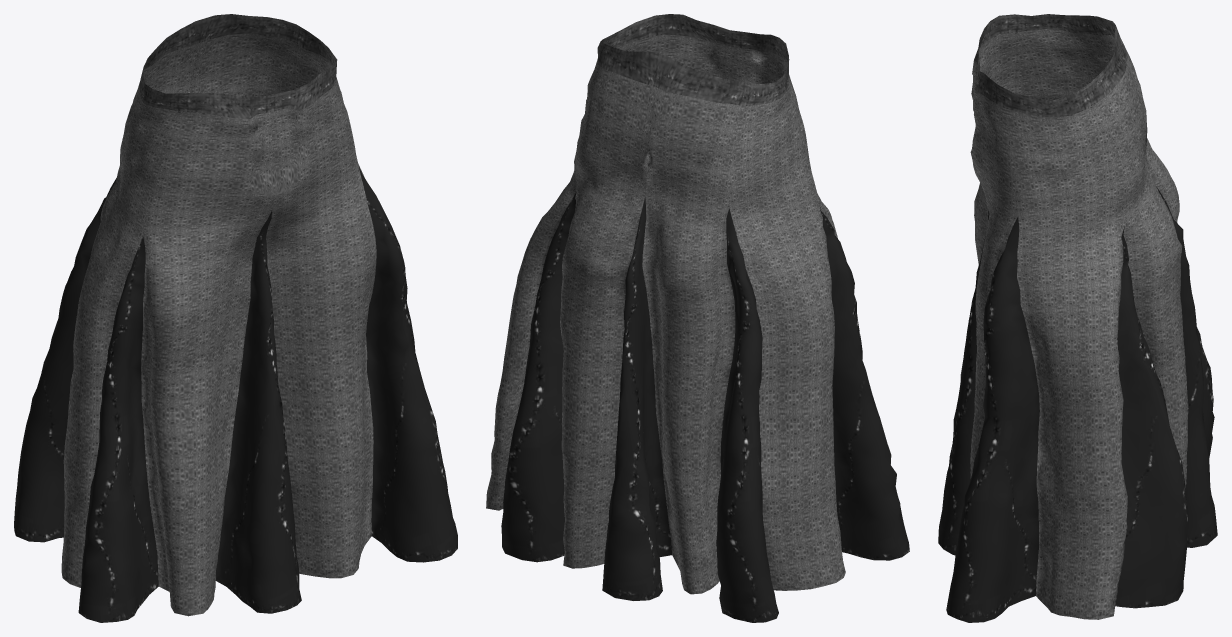
Rendered from elvs-gored-midi-skirt.glb.
3 views of the same model, side by side, from view 1: azimuth 30°, elevation 25°; view 2: azimuth 150°, elevation 25°; view 3: azimuth 270°, elevation 25° (orthographic).
Visible parts, largest first — view 1: Human.elvs_gored_midi_skirt; view 2: Human.elvs_gored_midi_skirt; view 3: Human.elvs_gored_midi_skirt.
Part boxes in pixels (x1,y1,x2,y2): Human.elvs_gored_midi_skirt: (14, 14, 457, 622); Human.elvs_gored_midi_skirt: (486, 14, 909, 622); Human.elvs_gored_midi_skirt: (938, 14, 1217, 622).
Size of the model in its own units: 0.6404 by 0.8674 by 0.4237.
Materials: 1 (1 with a texture image).
